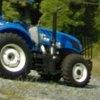Tractor: (4, 7, 100, 83)
